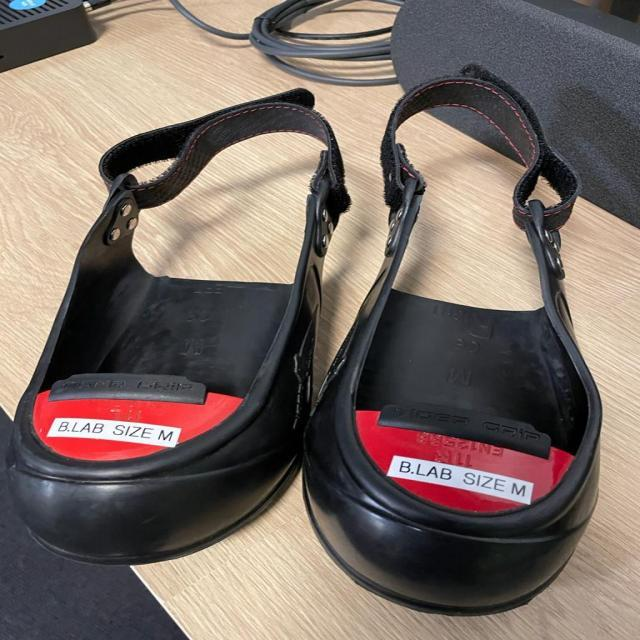shoes: (298, 65, 609, 615), (0, 86, 338, 562)
